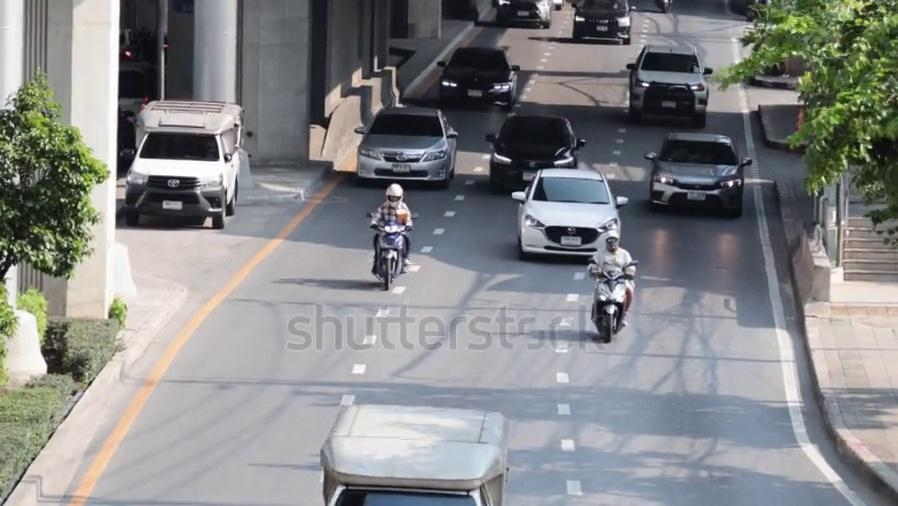rider: (589, 230, 637, 343), (368, 182, 412, 288)
with_helmate: (382, 184, 402, 209), (604, 232, 621, 251)
